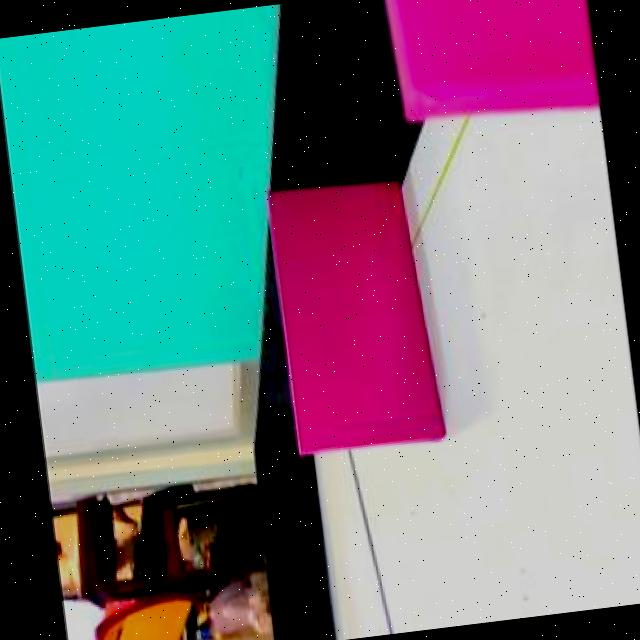xparking: (276, 188, 437, 450), (409, 0, 595, 110)
